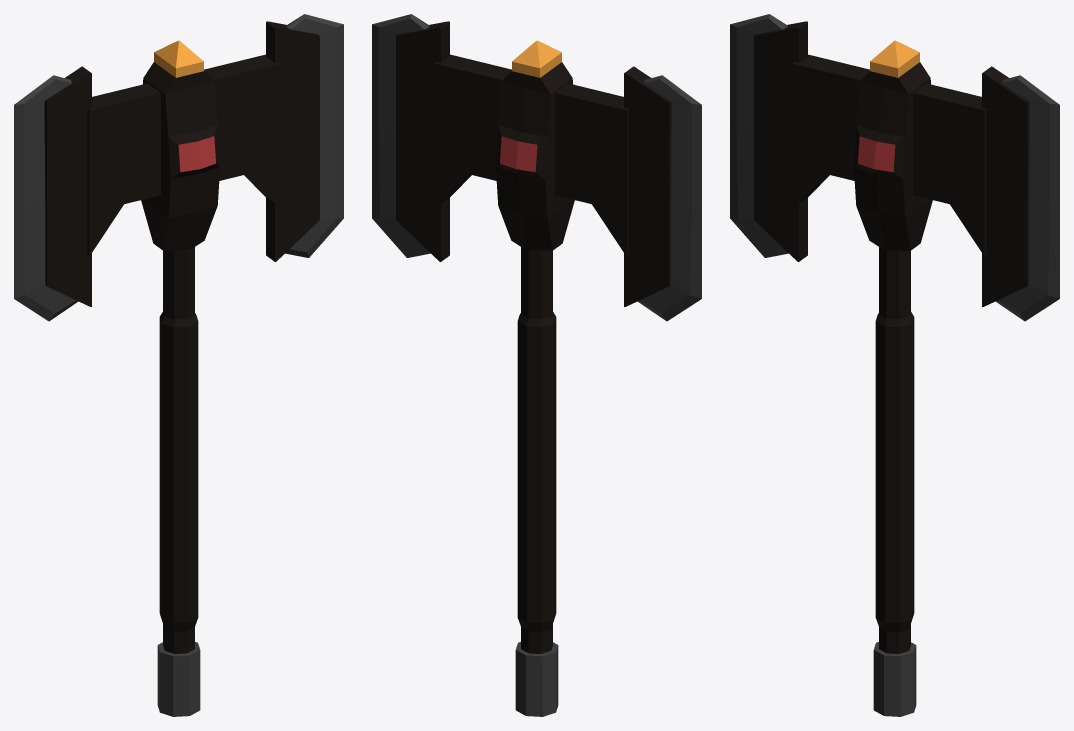
The model's file is one_handed_axe_5.fbx.
3 views of the same model, side by side, from view 1: azimuth 30°, elevation 25°; view 2: azimuth 150°, elevation 25°; view 3: azimuth 330°, elevation 25° (orthographic).
Parts seen in each view (by area): view 1: one_handed_axe_5; view 2: one_handed_axe_5; view 3: one_handed_axe_5.
Part boxes in pixels (x1,y1,x2,y2): one_handed_axe_5: (14,14,343,716); one_handed_axe_5: (372,14,701,716); one_handed_axe_5: (730,14,1059,716).
Bounding box in the file's own units: 0.5733 × 1.11 × 0.1259.
Materials: 1 (1 with a texture image).
